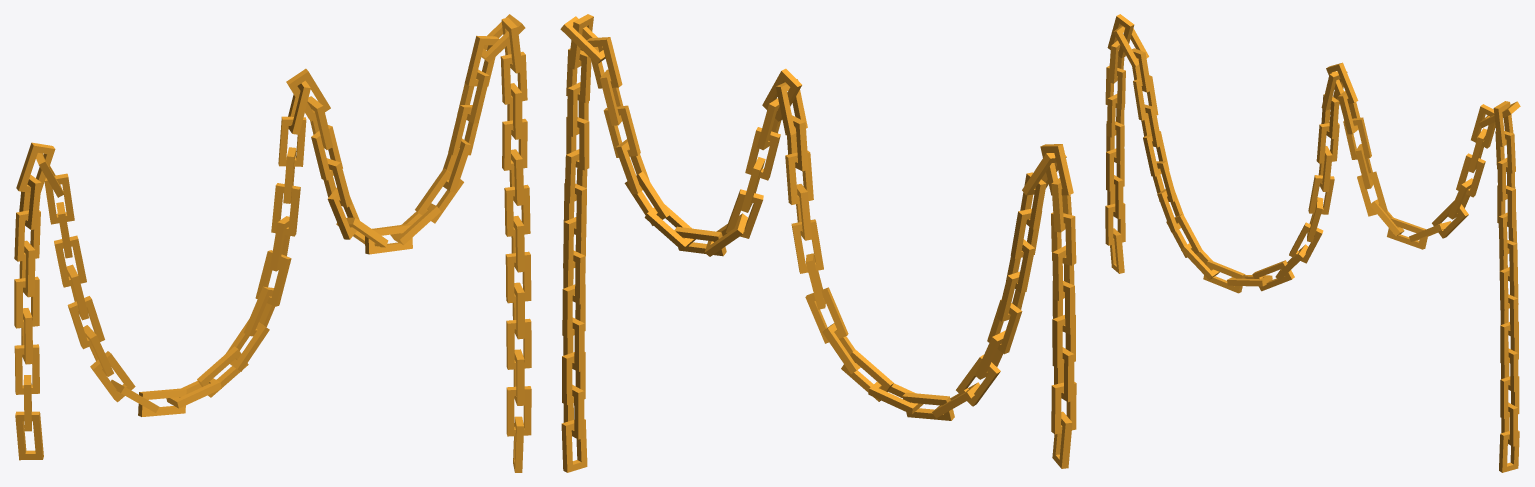
File: SM_Chain_Hang_B.fbx
3 views of the same model, side by side, from view 1: azimuth 30°, elevation 25°; view 2: azimuth 150°, elevation 25°; view 3: azimuth 330°, elevation 25° (orthographic). The views are drawn at different scales.
Visible parts, largest first — view 1: chain-hang-b; view 2: chain-hang-b; view 3: chain-hang-b.
Part boxes in pixels (bbox=[...]): chain-hang-b: bbox=[14, 14, 531, 472]; chain-hang-b: bbox=[560, 14, 1076, 472]; chain-hang-b: bbox=[1105, 14, 1520, 472].
Bounding box in the file's own units: 0.754 × 0.6318 × 0.0414.
